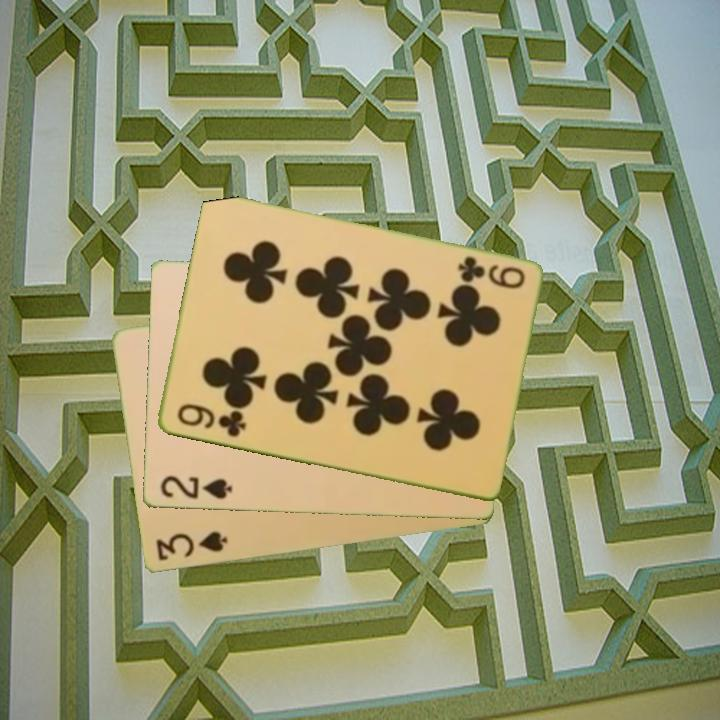2s: (156, 472, 235, 502)
3s: (152, 528, 230, 564)
9c: (173, 400, 249, 441), (453, 253, 528, 292)
